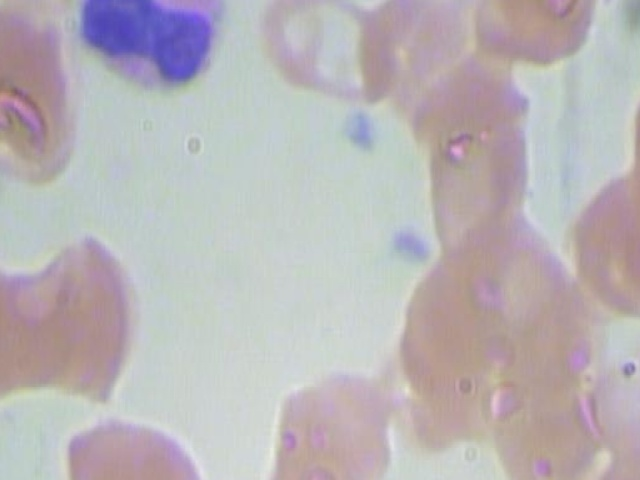Platelets: (327, 99, 387, 162), (375, 213, 434, 276)
RBC: (20, 223, 161, 395), (422, 76, 533, 284), (490, 296, 601, 480), (256, 0, 401, 116), (0, 0, 83, 193), (256, 369, 397, 480), (51, 408, 227, 480), (474, 0, 611, 63), (594, 309, 640, 480), (624, 61, 640, 269), (631, 0, 640, 20)
WBC: (65, 0, 237, 106)
